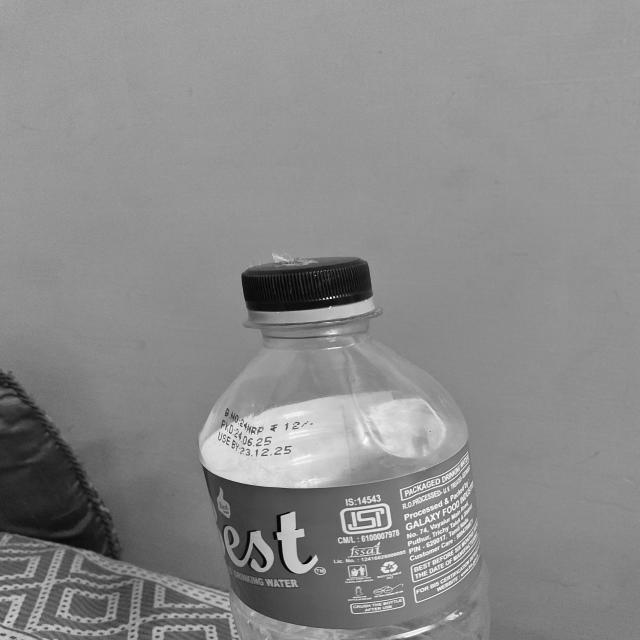Good-cap-Df0S: (235, 260, 383, 323)
